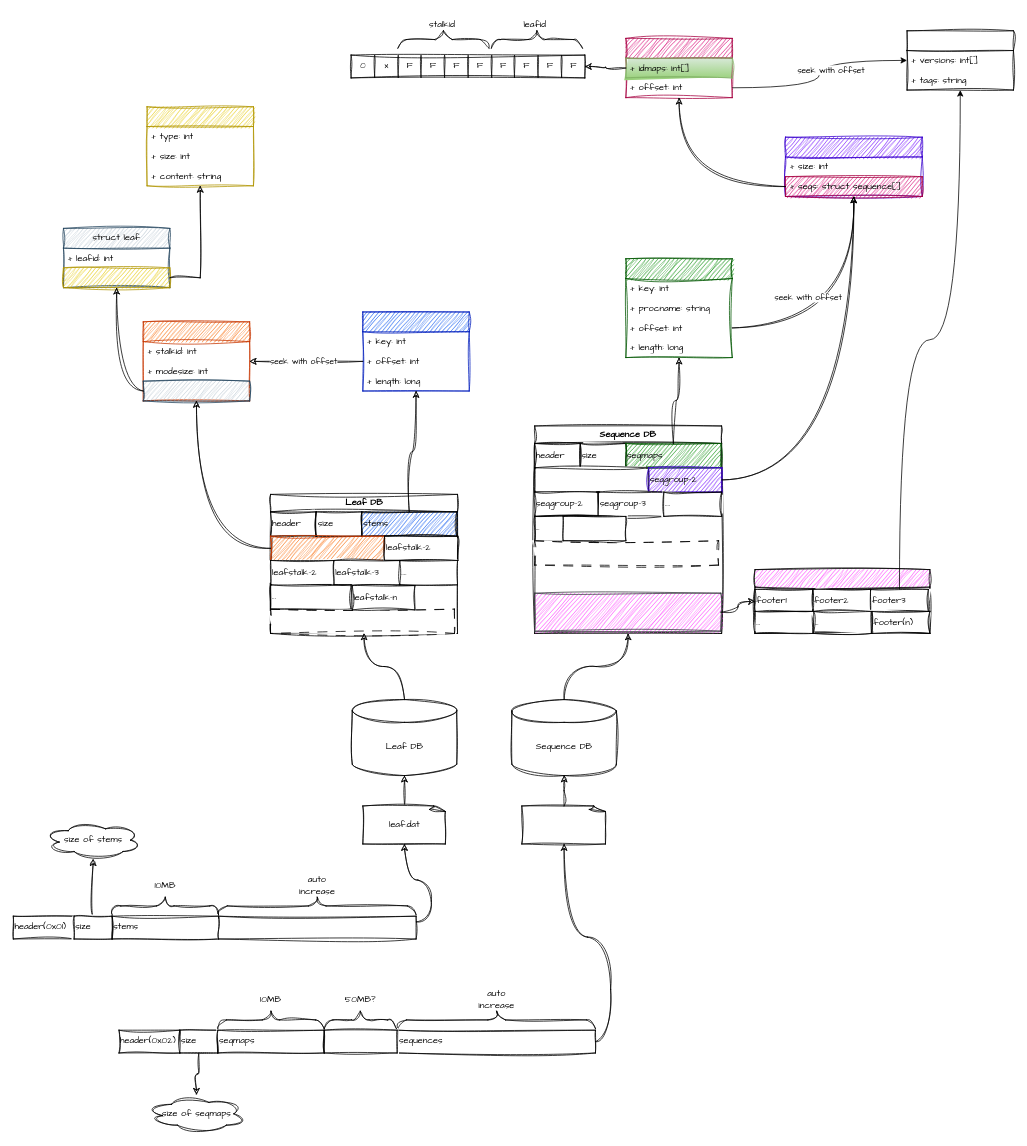
Image size: 1027x1146. Some labels were removed from this diagram. The shapes that lost their labels are listed below. From the top down, each one's box as (x1, y1, x2, y2) in pixels, then its label:
(625, 38, 732, 98): struct sequence
(906, 30, 1013, 90): struct footer
(146, 106, 253, 186): struct log
(785, 136, 922, 196): struct seqgroup
(63, 267, 170, 288): + log: struct log[]
(625, 258, 732, 358): struct seqmap
(142, 321, 250, 401): struct leafstalk
(362, 311, 469, 391): struct stem
(142, 380, 250, 401): + leaf: struct leaf
(534, 467, 649, 492): seqgroup-1
(270, 535, 385, 560): leafstalk-1
(562, 516, 626, 541): seqgroup-n
(534, 592, 721, 631): seqfooter
(754, 569, 930, 633): sequence footer
(521, 805, 606, 844): seq.dat
(218, 915, 416, 939): leafstalks
(323, 1029, 397, 1053): footer
